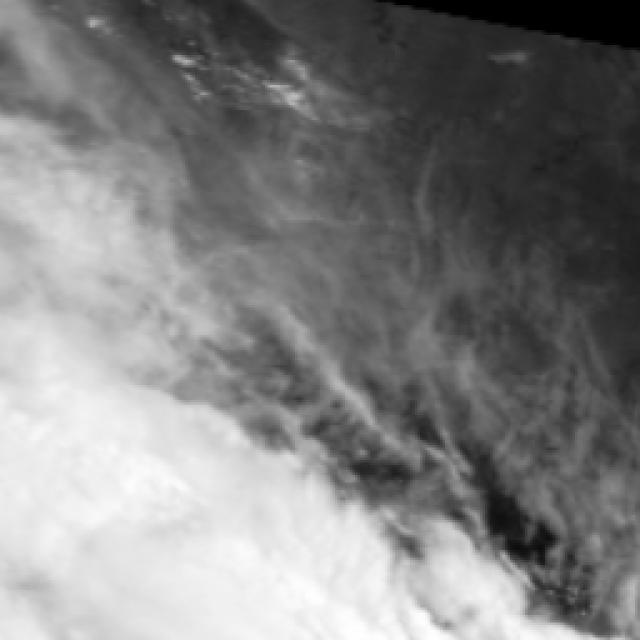CB: (0, 434, 230, 639), (0, 510, 353, 638)
